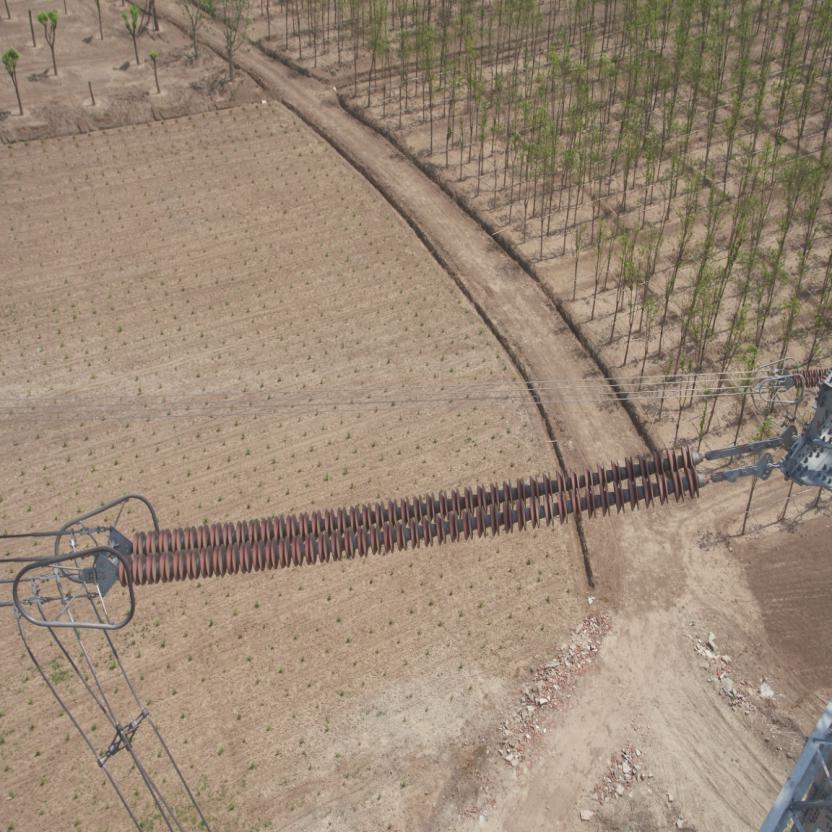insulator: (108, 440, 730, 592)
